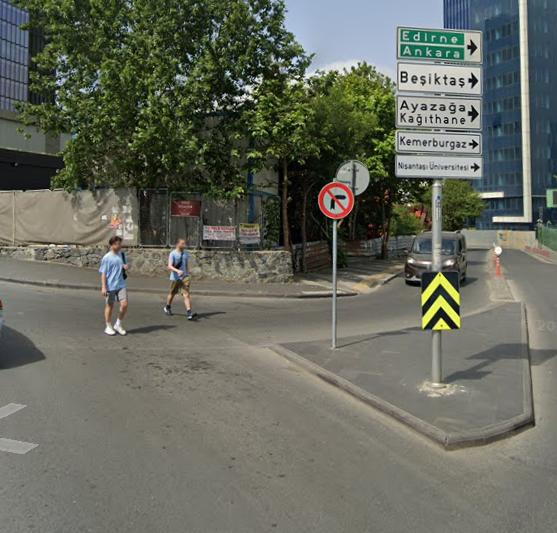rightturnsareforbidden: (314, 179, 358, 221)
